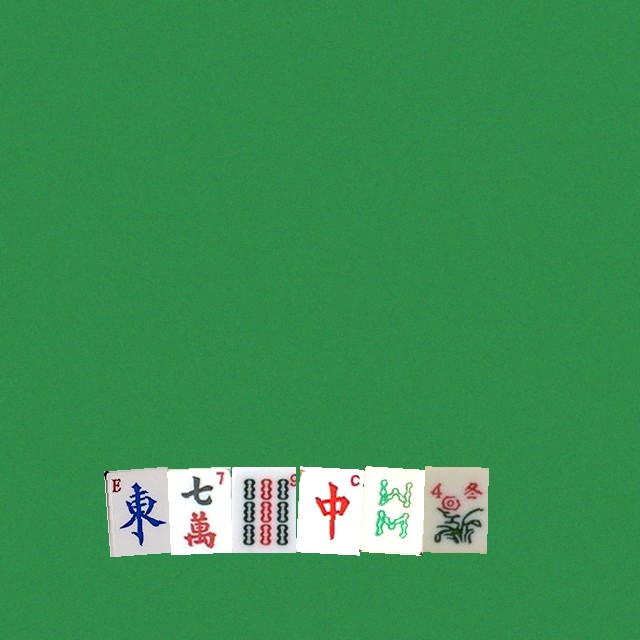tile: (103, 466, 167, 552), (167, 466, 231, 552), (231, 466, 295, 552), (295, 466, 359, 552), (359, 466, 423, 552), (423, 466, 487, 552)
